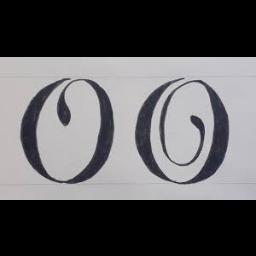o: (132, 74, 238, 186), (18, 74, 118, 186)
